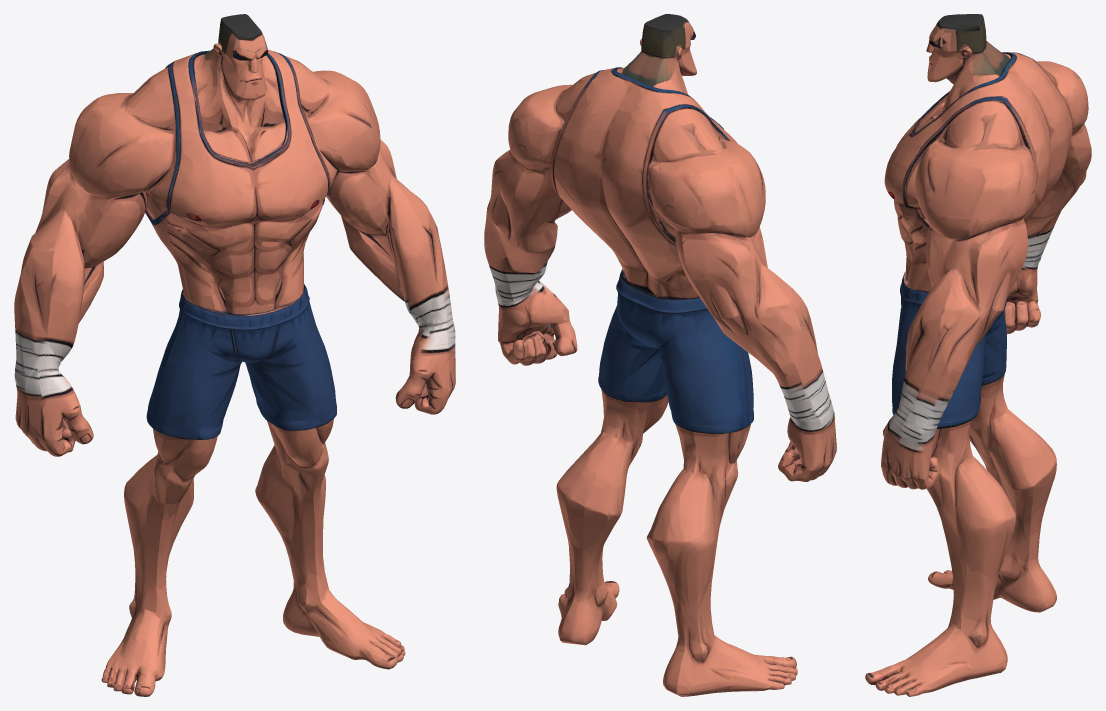
3 views of the same model, side by side, from view 1: azimuth 30°, elevation 25°; view 2: azimuth 150°, elevation 25°; view 3: azimuth 270°, elevation 25° (orthographic). The views are drawn at different scales.
Bounding box in the file's own units: 1.2 × 1.9 × 0.6336.
Materials: 1 (1 with a texture image).
